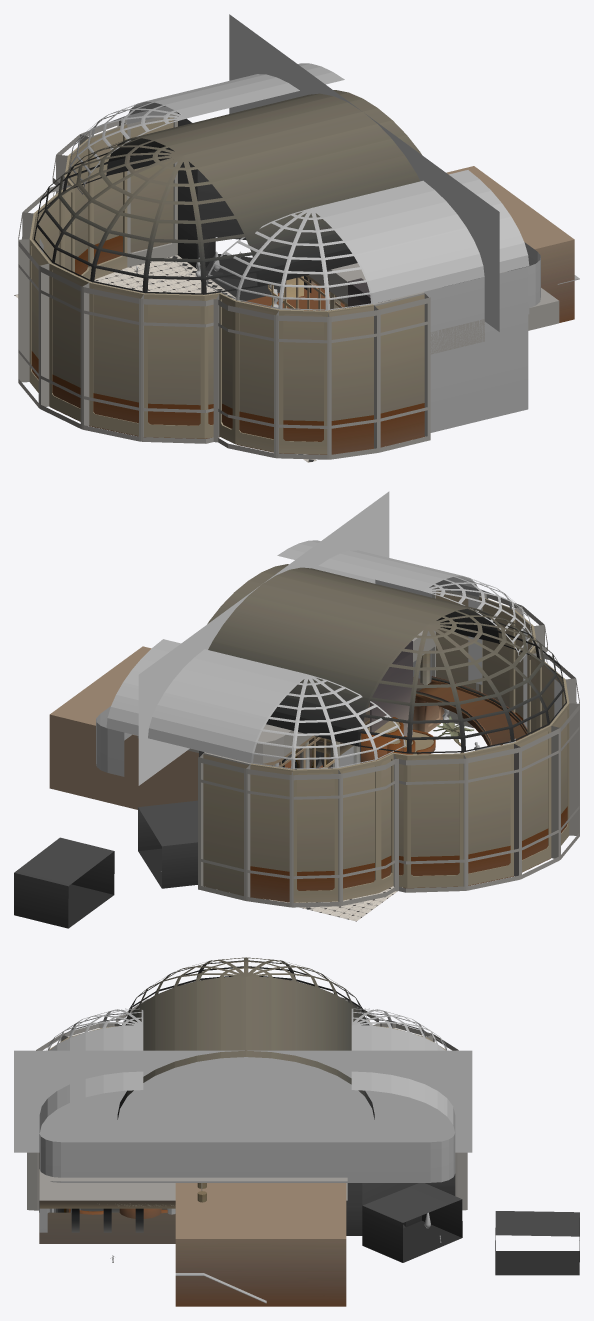
File: ResturantBlockout_v5.fbx
3 renders of one model, top to bottom at view 1: azimuth 30°, elevation 25°; view 2: azimuth 150°, elevation 25°; view 3: azimuth 270°, elevation 25°, orthographic. The views are drawn at different scales.
Visible parts, largest first — view 1: Cylinder.021, Sphere, Sphere.002, Cylinder.038, Cylinder.004, Cylinder.026, Plane, Sphere.001, Plane.006, Cylinder.013, Plane.002, Cylinder.042 (+2 smaller); view 2: Cylinder.021, Sphere, Sphere.001, Cylinder.038, Cylinder.013, Cylinder.004, Plane.006, Plane, Sphere.002, Cylinder.012, Cube.002, Cylinder.026 (+7 smaller); view 3: Plane, Plane.006, Sphere, Cylinder.026, Cylinder.013, Sphere.001, Sphere.002, Plane.002, Cylinder.039, Cylinder.024, Cylinder.038, Cylinder.048.
Boxes of the visible parts, <box> form: Cylinder.021: <box>31,117,426,454</box>; Sphere: <box>33,90,422,294</box>; Sphere.002: <box>206,170,529,310</box>; Cylinder.038: <box>18,117,430,459</box>; Cylinder.004: <box>29,112,424,454</box>; Cylinder.026: <box>424,242,540,432</box>; Plane: <box>229,14,499,331</box>; Sphere.001: <box>68,63,344,194</box>; Plane.006: <box>243,166,574,322</box>; Cylinder.013: <box>177,112,311,301</box>; Plane.002: <box>308,263,559,354</box>; Cylinder.042: <box>14,257,215,297</box>; Cylinder.021: <box>202,590,567,902</box>; Sphere: <box>207,564,566,753</box>; Sphere.001: <box>106,639,405,769</box>; Cylinder.038: <box>198,592,579,907</box>; Cylinder.013: <box>14,751,204,928</box>; Cylinder.004: <box>203,586,569,902</box>; Plane.006: <box>49,646,322,809</box>; Plane: <box>138,491,389,785</box>; Sphere.002: <box>277,540,533,661</box>; Cylinder.012: <box>415,676,527,745</box>; Cube.002: <box>370,641,412,736</box>; Cylinder.026: <box>96,579,431,776</box>; Plane: <box>14,1050,472,1152</box>; Plane.006: <box>175,1183,346,1306</box>; Sphere: <box>117,957,374,1119</box>; Cylinder.026: <box>39,1133,455,1182</box>; Cylinder.013: <box>346,1174,579,1275</box>; Sphere.001: <box>351,1007,455,1132</box>; Sphere.002: <box>39,1008,143,1132</box>; Plane.002: <box>39,1169,347,1200</box>; Cylinder.039: <box>39,1212,175,1243</box>; Cylinder.024: <box>39,1153,175,1232</box>; Cylinder.038: <box>27,997,467,1210</box>; Cylinder.048: <box>79,1208,167,1218</box>.
Size of the model in its own units: 21328 by 9516 by 24791.
